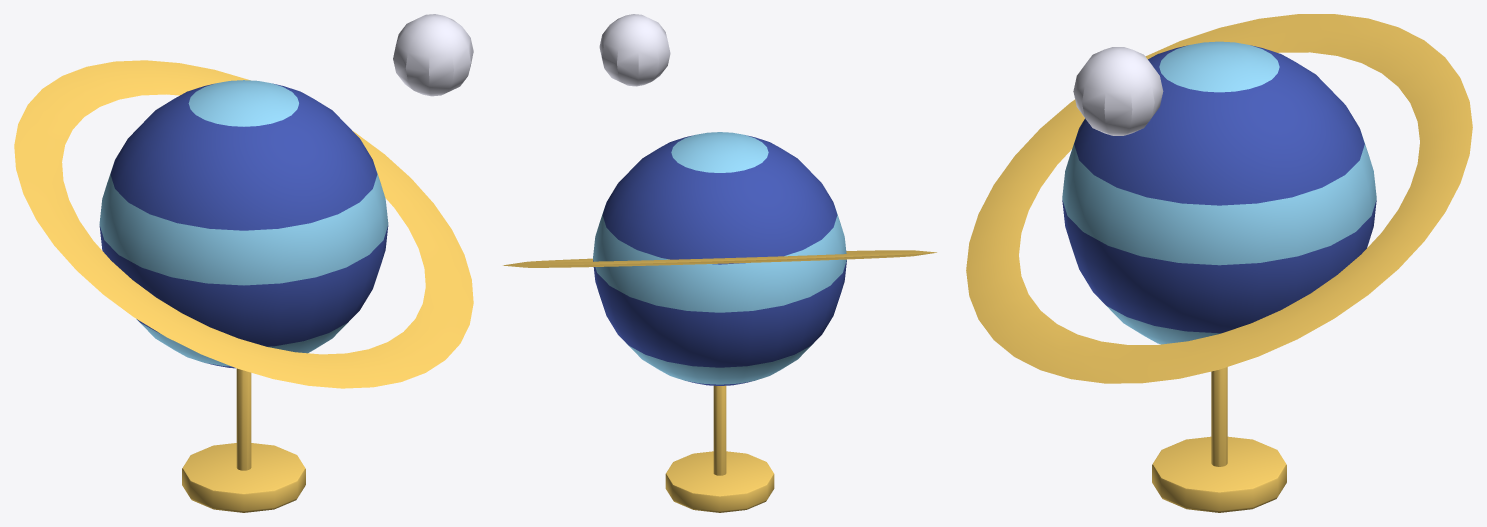
Rendered from LandPlanet.fbx.
3 renders of one model, left to right at view 1: azimuth 30°, elevation 25°; view 2: azimuth 150°, elevation 25°; view 3: azimuth 270°, elevation 25°, orthographic. The views are drawn at different scales.
Visible parts, largest first — view 1: LandPlanet; view 2: LandPlanet; view 3: LandPlanet.
Boxes of the visible parts, bbox=[...] form: LandPlanet: bbox=[14, 14, 473, 512]; LandPlanet: bbox=[503, 14, 936, 512]; LandPlanet: bbox=[966, 14, 1472, 512].
Bounding box in the file's own units: 931 × 1003 × 902.
